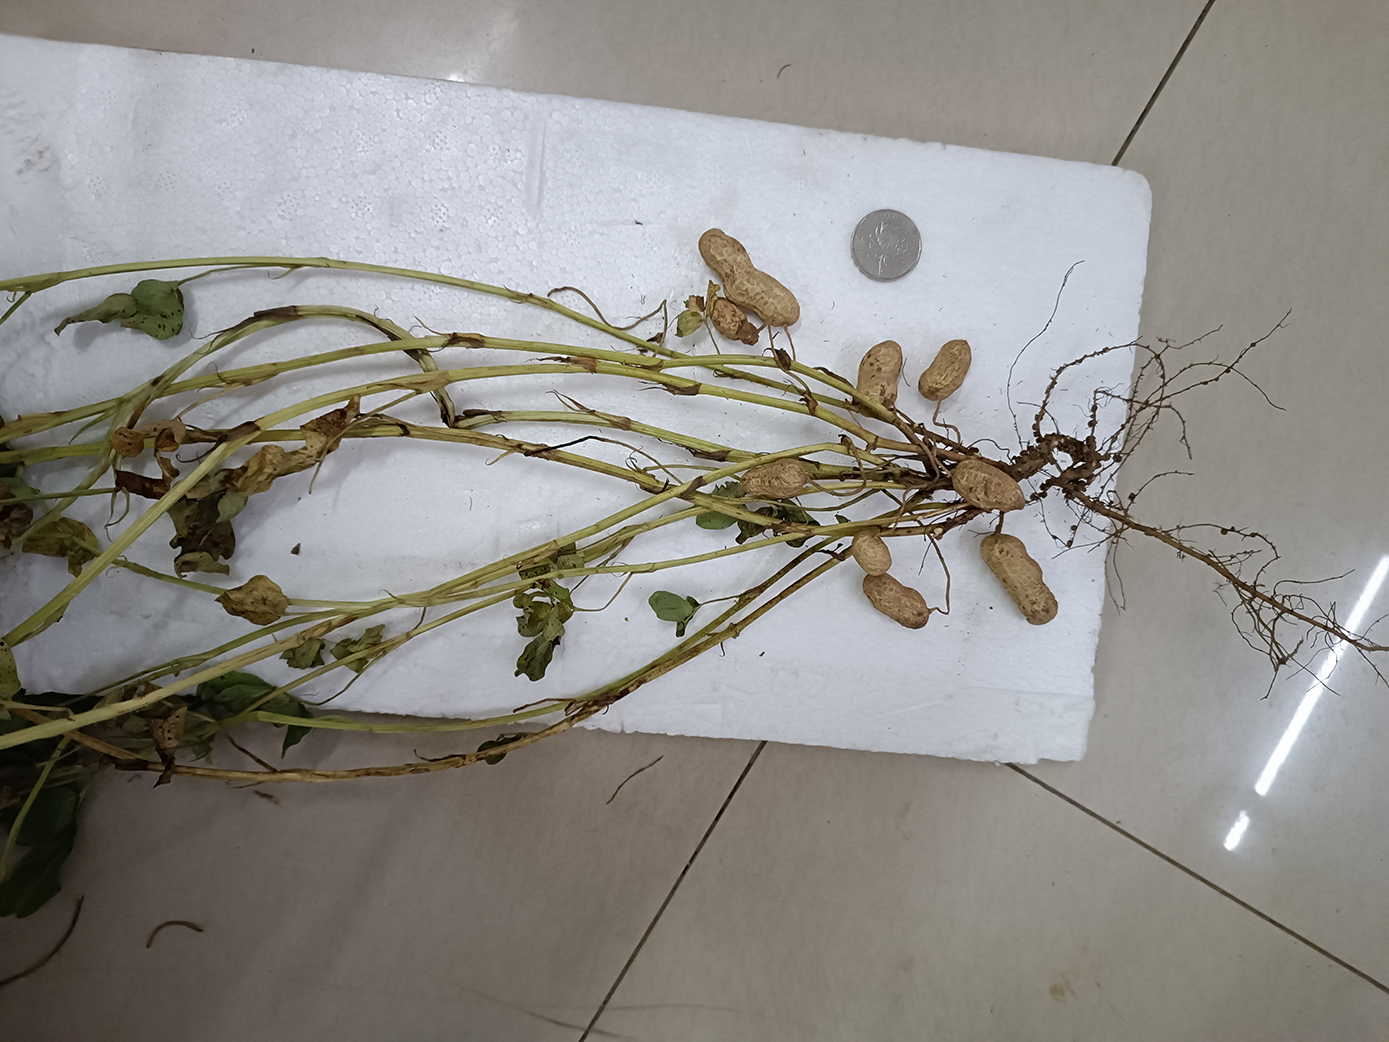h: (698, 227, 801, 327), (979, 533, 1060, 627), (952, 459, 1026, 512), (864, 576, 931, 630), (855, 338, 904, 408), (918, 338, 972, 400), (741, 458, 809, 496), (852, 531, 893, 574)
l: (706, 298, 760, 347)
